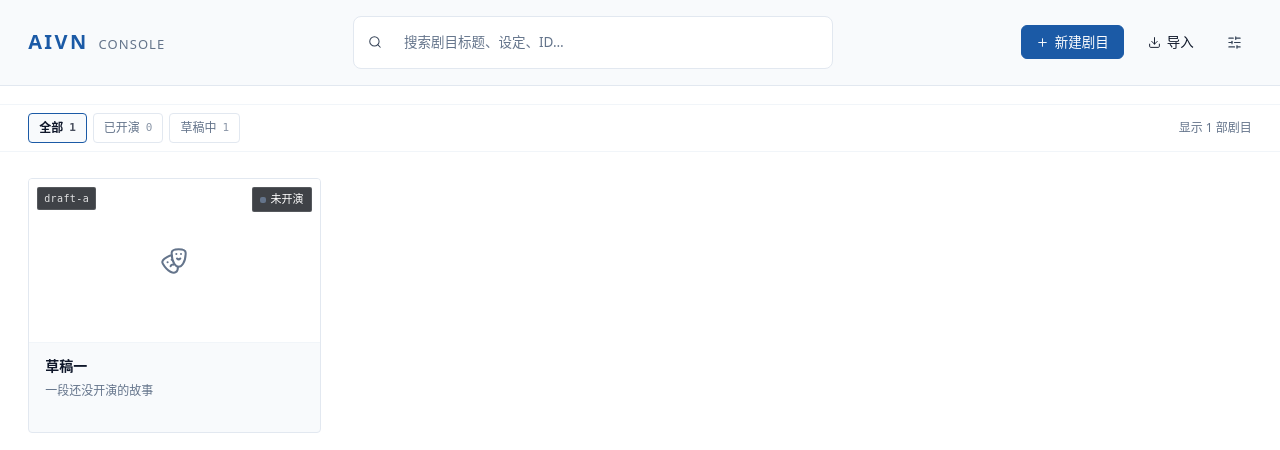
Test: 剧目库的空状态文案 › 只切到「已开演」而没在搜：说清空的是哪一类，不留一颗点下去没反应的清除键
Expected: the heading "草稿一" is shown, [45,356,87,375]
Click the button "已开演 0" at (128,128), box [93,113,163,143]
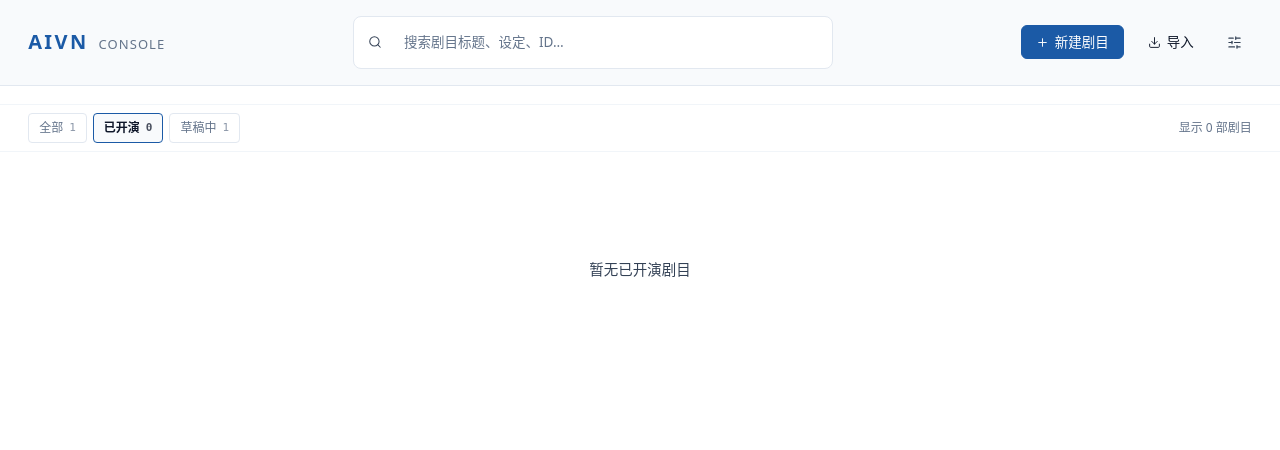
Now the text "暂无已开演剧目" is shown, box [589,257,691,281]
